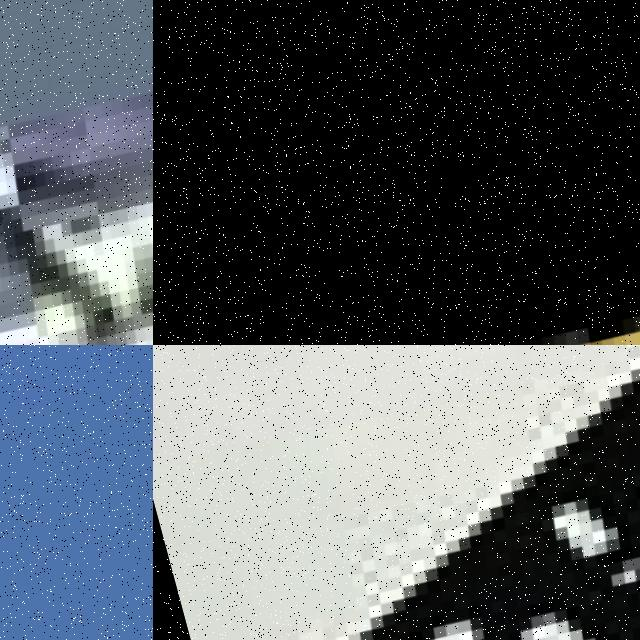0: (0, 0, 153, 345)
drone: (153, 0, 640, 345), (153, 345, 640, 640)
